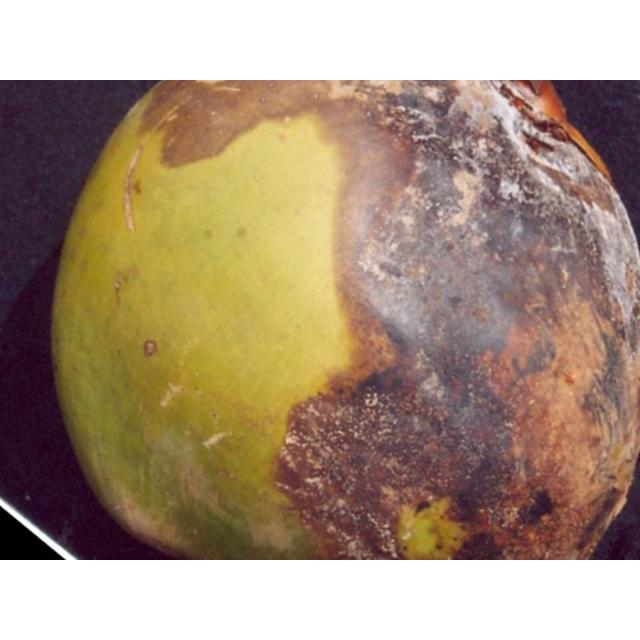damaged: (52, 80, 639, 559)
